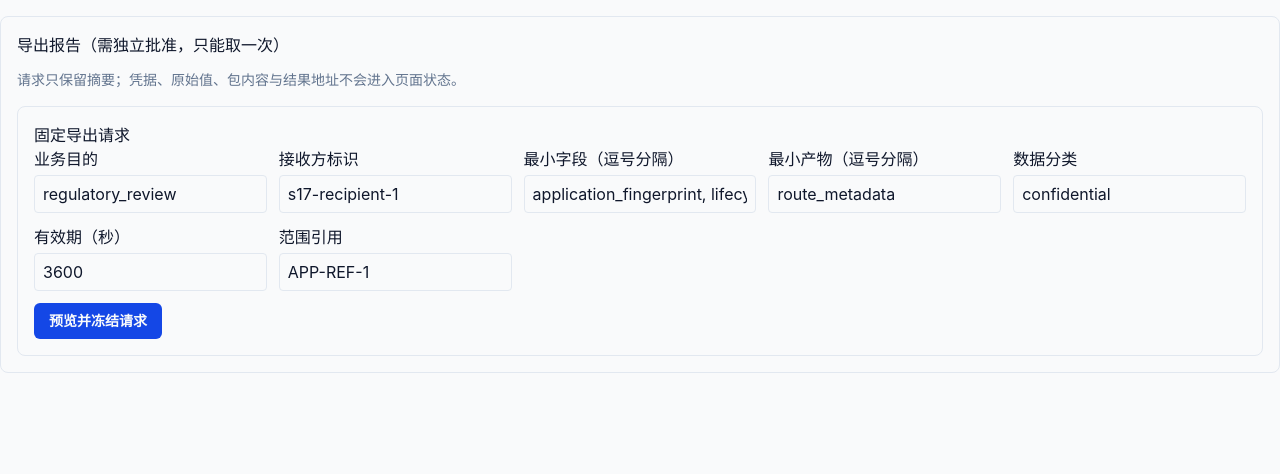
Test: S17ExportPanel › renders typed denial and expiry errors without server messages
What coordinates should you click on to do the following:
click the button with test id "s17-preview-button"
I would click on:
 (98, 321)
Its box is top-left (34, 303), bottom-right (162, 339).
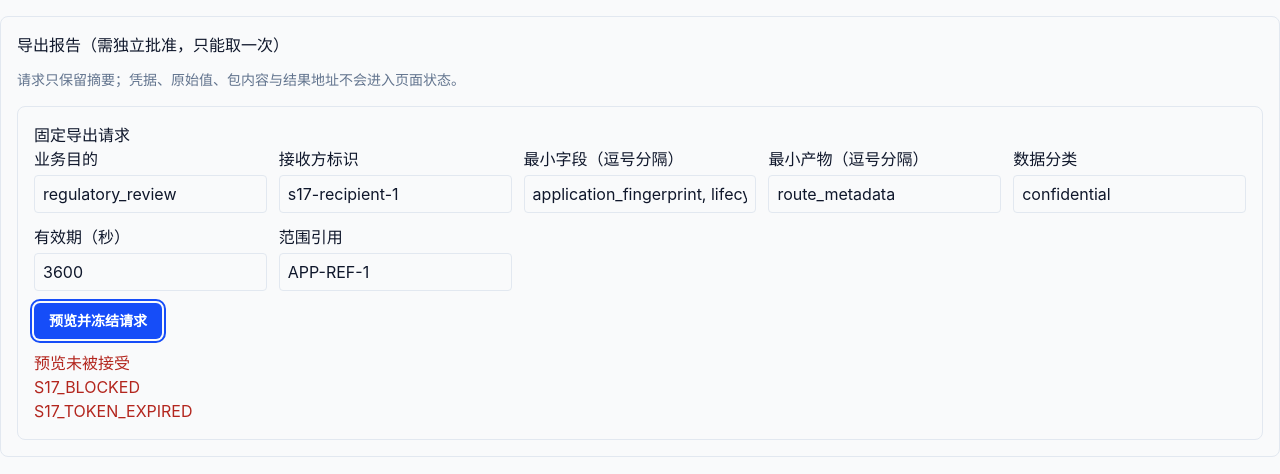
Check: the message "预览未被接受 S17_BLOCKED S17_TOKEN_EXPIRED" is shown, box top-left (34, 353), bottom-right (192, 421)
Check: the text with test id "s17-error-code" reads "S17_BLOCKED", box top-left (34, 377), bottom-right (140, 397)
Check: the text with test id "s17-error-reason" reads "S17_TOKEN_EXPIRED", box top-left (34, 401), bottom-right (192, 421)
